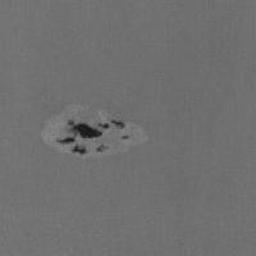Inclusion: (41, 104, 148, 158)
